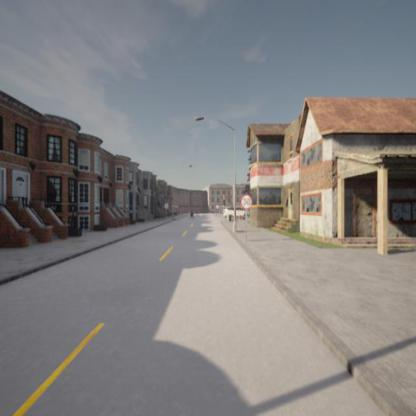traffic_sign_30: (240, 195, 252, 209)
